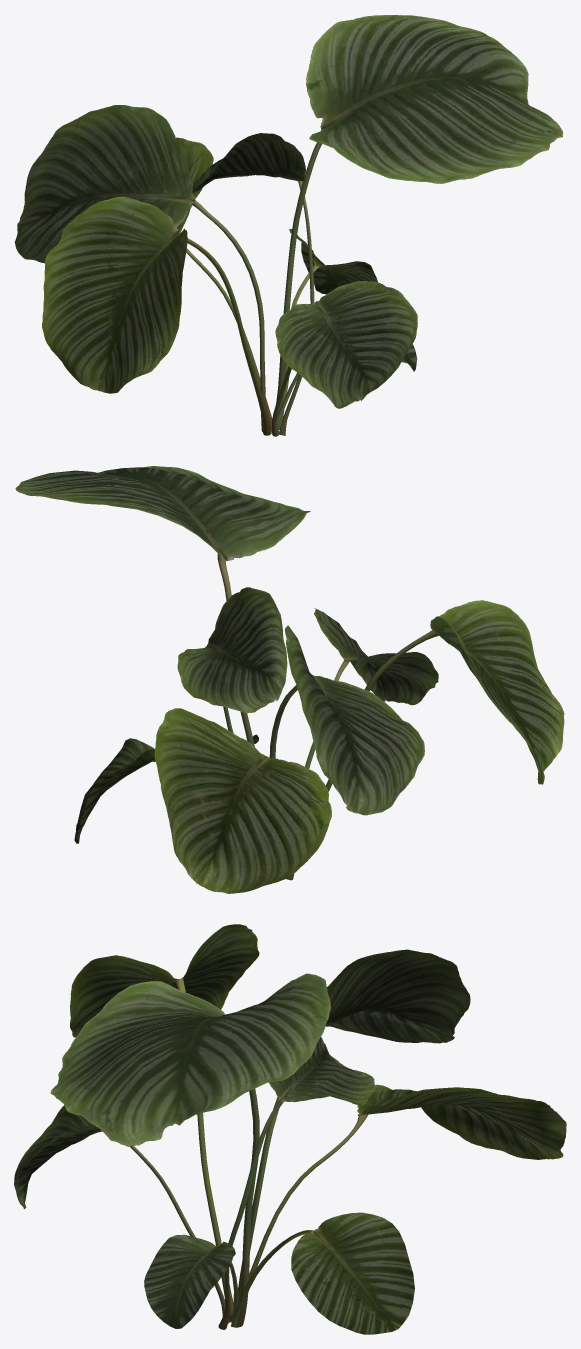
File: calathea.glb
3 renders of one model, top to bottom at view 1: azimuth 30°, elevation 25°; view 2: azimuth 150°, elevation 25°; view 3: azimuth 270°, elevation 25°, orthographic. The views are drawn at different scales.
Parts seen in each view (by area): view 1: calathea_orbifolia_01_a; view 2: calathea_orbifolia_01_a; view 3: calathea_orbifolia_01_a.
Boxes of the visible parts, bbox=[...] form: calathea_orbifolia_01_a: bbox=[15, 15, 562, 436]; calathea_orbifolia_01_a: bbox=[15, 466, 564, 893]; calathea_orbifolia_01_a: bbox=[14, 924, 566, 1334].
Bounding box in the file's own units: 0.6006 × 0.4243 × 0.5257.
1 material, 1 textured.
